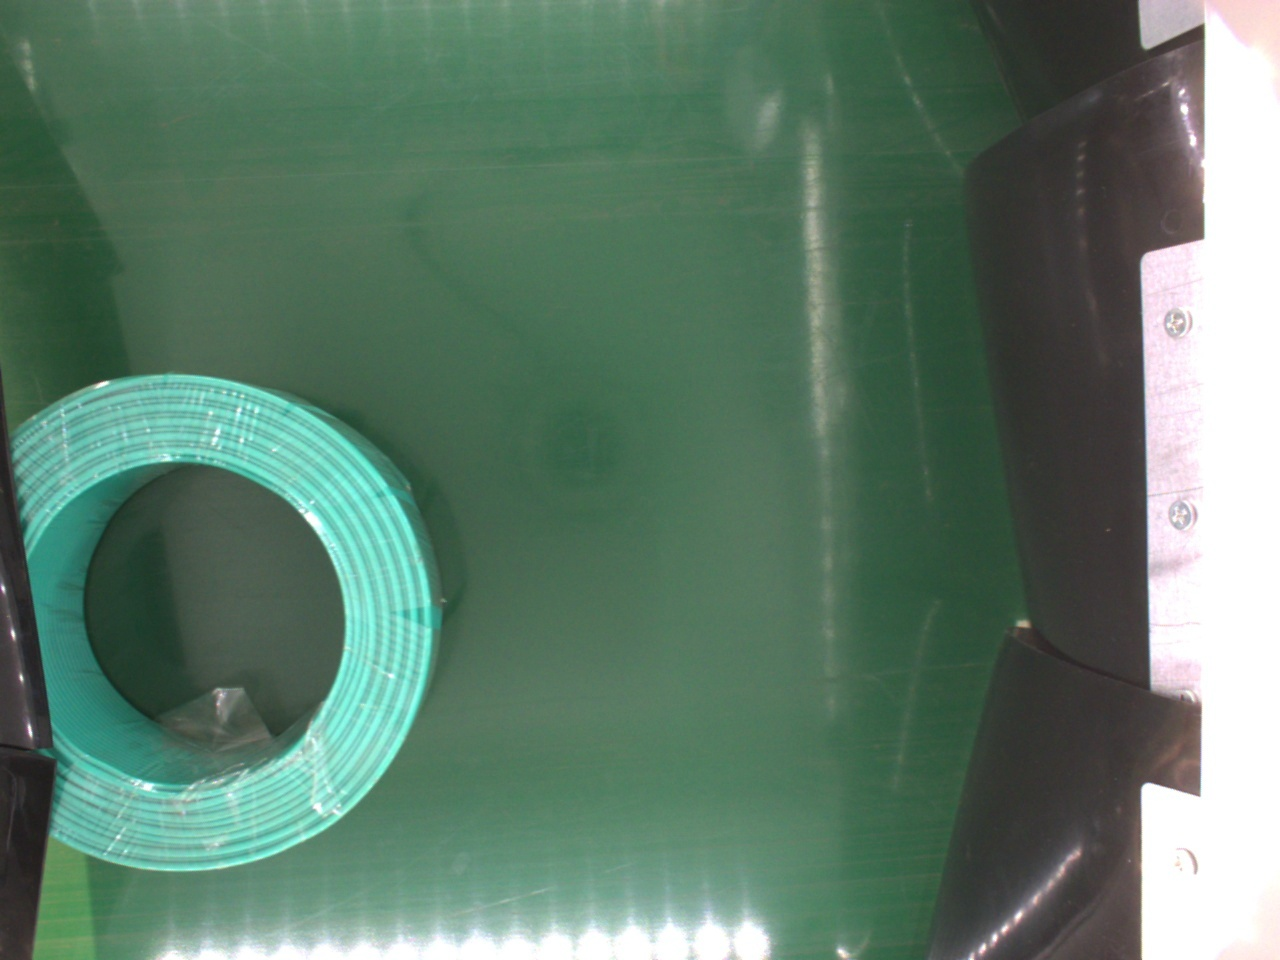green: (10, 372, 440, 878)
